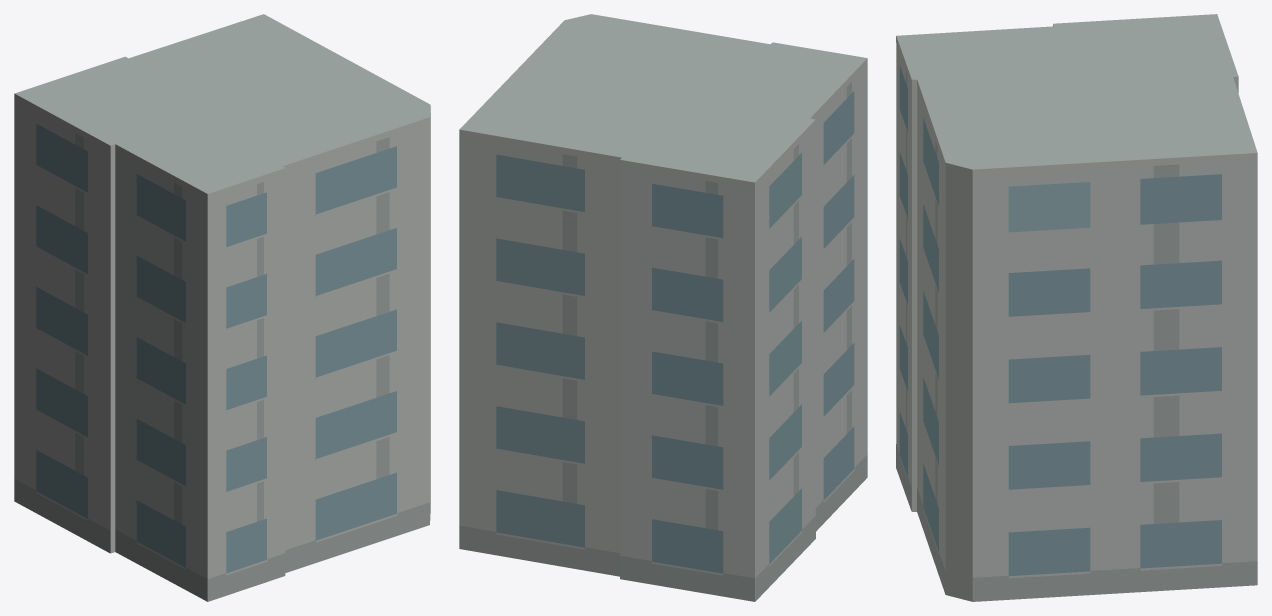
Rendered from survey-upis-32956005.glb.
3 renders of one model, left to right at view 1: azimuth 30°, elevation 25°; view 2: azimuth 150°, elevation 25°; view 3: azimuth 270°, elevation 25°, orthographic. The views are drawn at different scales.
Parts seen in each view (by area): view 1: survey-upis-32956005.tmp; view 2: survey-upis-32956005.tmp; view 3: survey-upis-32956005.tmp.
Boxes of the visible parts, x1,y1,x2,y2 form: survey-upis-32956005.tmp: (14,14,430,601); survey-upis-32956005.tmp: (459,14,867,601); survey-upis-32956005.tmp: (896,14,1257,601).
Size of the model in its own units: 11.78 by 15.25 by 11.57.
